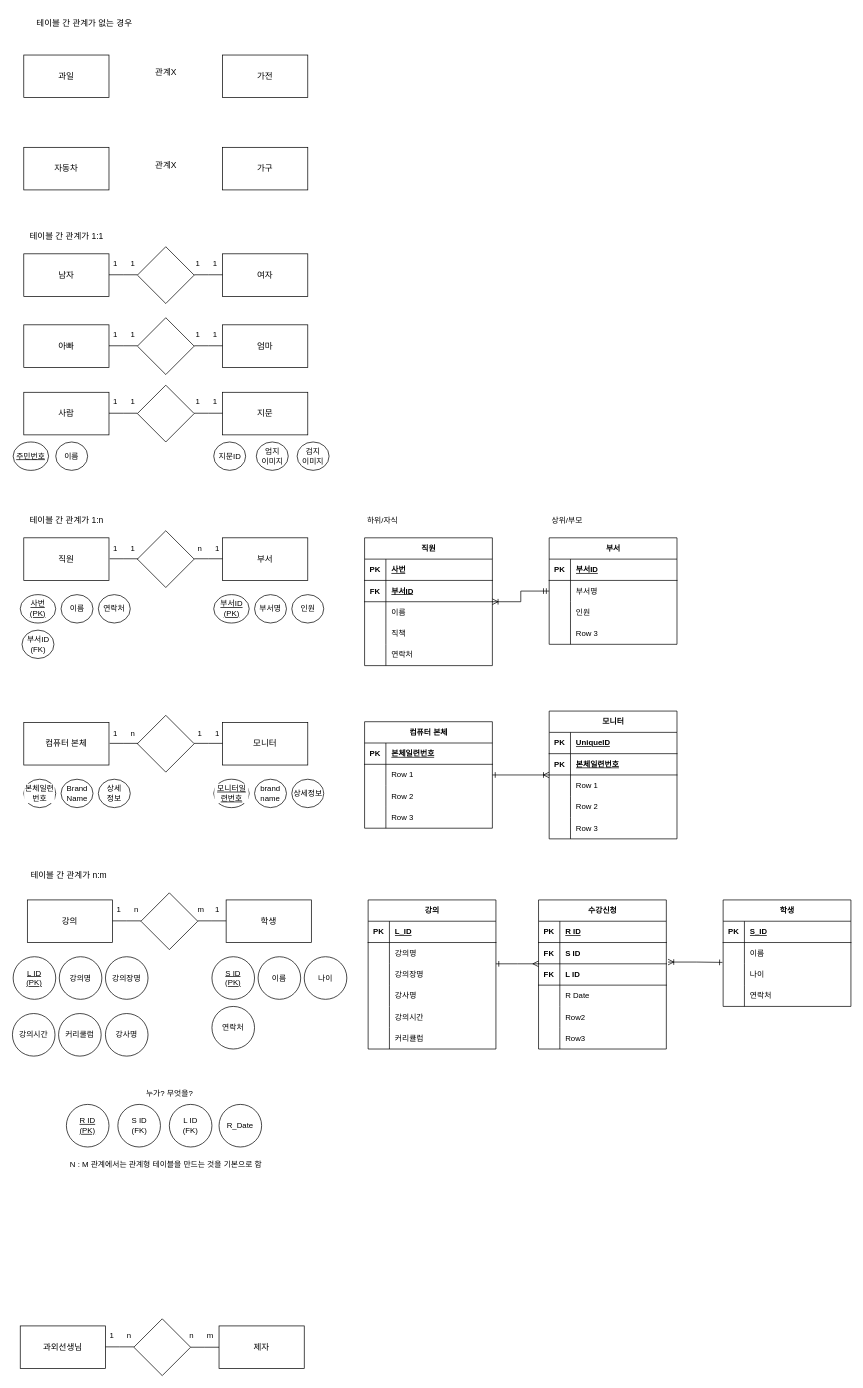
The diagram is 863 pixels wide and 1388 high, and some of its shapes have lost their labels. Each missing label, with the centre of its shape:
"결혼" belongs at [165,275].
"교육" belongs at [162,1347].
"부부" belongs at [165,346].
"소속" belongs at [165,559].
"소유" belongs at [165,413].
"수강 신청" belongs at [169,921].
"연결" belongs at [165,743].
